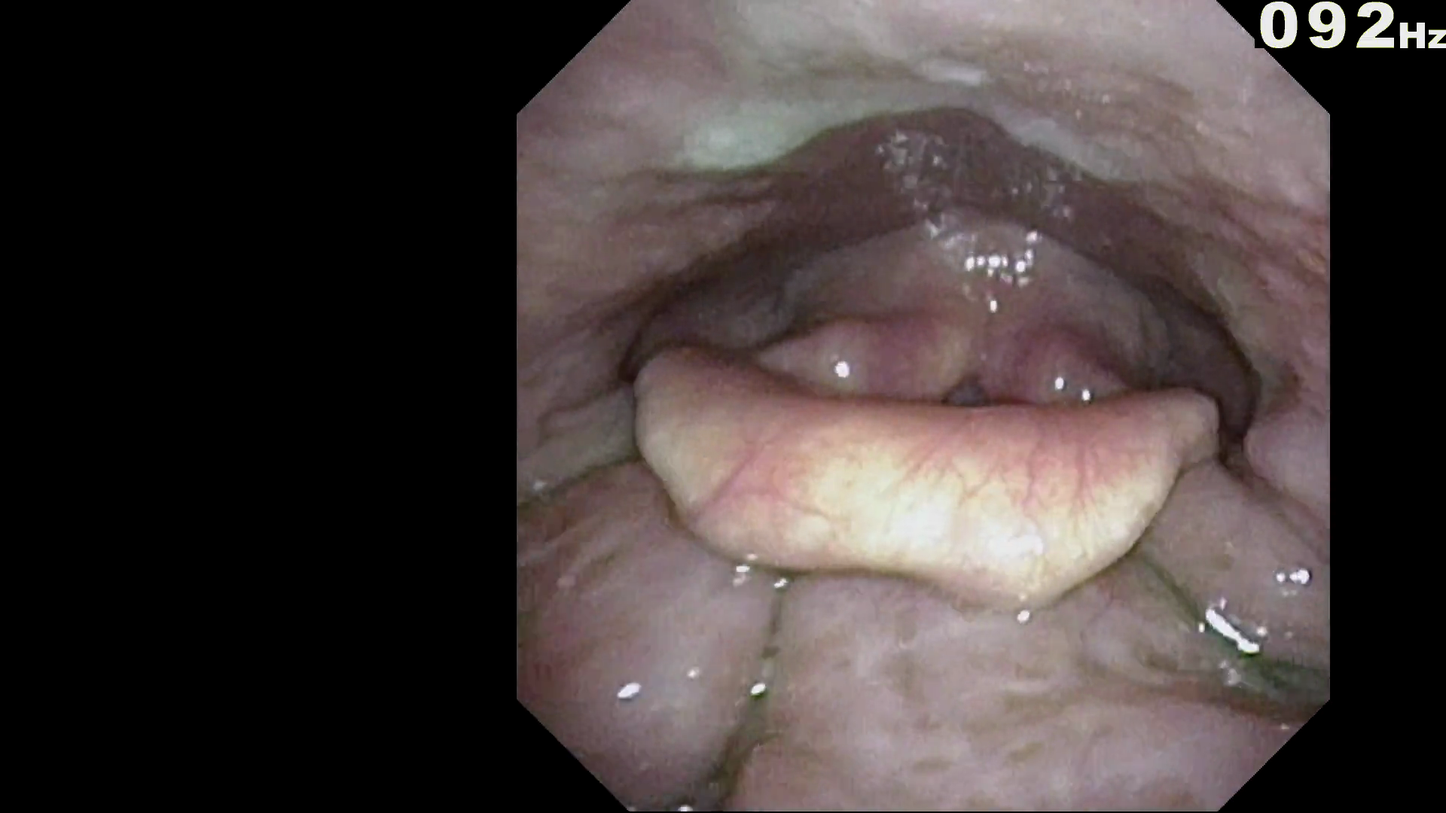epiglottis: (597, 377, 1210, 567)
trachea: (924, 368, 1021, 440)
